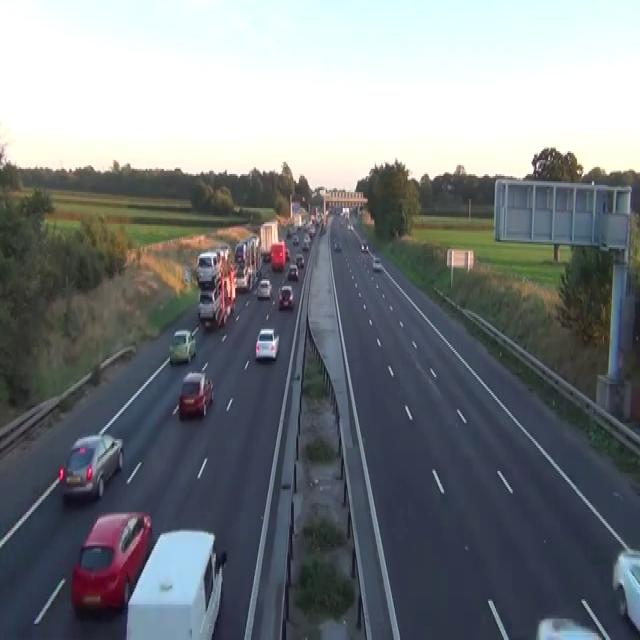Car: (71, 511, 152, 614), (58, 432, 124, 500), (612, 547, 639, 633), (178, 372, 214, 418), (535, 617, 602, 638), (168, 329, 196, 364), (255, 327, 279, 361), (197, 290, 215, 322), (277, 284, 294, 310), (235, 265, 250, 290), (257, 277, 272, 299), (216, 242, 230, 261), (234, 242, 245, 263), (287, 263, 299, 281), (295, 252, 304, 268), (183, 266, 191, 284), (372, 256, 381, 270), (301, 238, 309, 251), (307, 224, 315, 236), (319, 222, 326, 235), (333, 240, 341, 251), (361, 242, 368, 252), (292, 235, 299, 245), (263, 251, 270, 261), (285, 247, 290, 260), (446, 182, 454, 190), (233, 204, 240, 213), (347, 222, 353, 230), (286, 228, 292, 236), (339, 218, 344, 226), (333, 240, 337, 249), (325, 210, 329, 217)
Truck: (125, 528, 225, 638), (196, 243, 236, 329), (233, 233, 262, 291), (259, 218, 278, 260), (270, 240, 286, 270)
